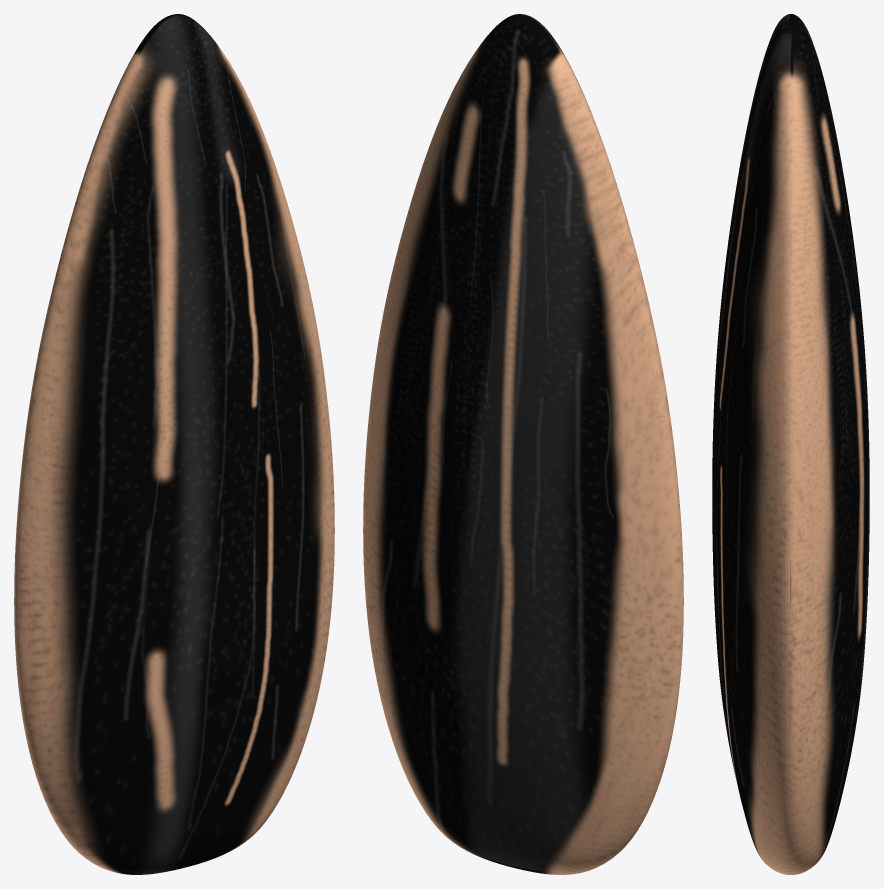
Rendered from Sunflower Seed.fbx.
The picture shows the model from 3 angles, left to right: view 1: azimuth 30°, elevation 25°; view 2: azimuth 150°, elevation 25°; view 3: azimuth 270°, elevation 25°; orthographic projection.
Visible parts, largest first — view 1: Cube.007; view 2: Cube.007; view 3: Cube.007.
Boxes of the visible parts, <box> form: Cube.007: <box>14,14,334,874</box>; Cube.007: <box>363,14,683,874</box>; Cube.007: <box>712,14,869,874</box>.
Size of the model in its own units: 120 by 307 by 52.35.
